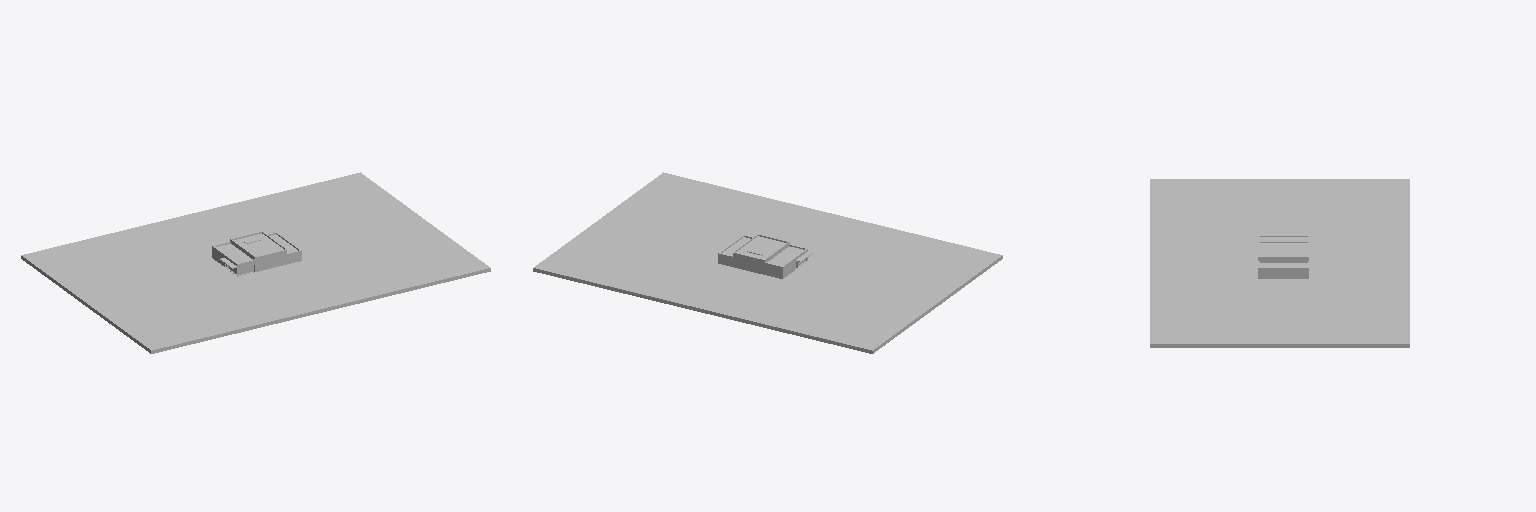
File: UE3DExposition_cleanedup.obj
3 views of the same model, side by side, from view 1: azimuth 30°, elevation 25°; view 2: azimuth 150°, elevation 25°; view 3: azimuth 270°, elevation 25° (orthographic).
Size of the model in its own units: 98.71 by 5.1 by 65.65.